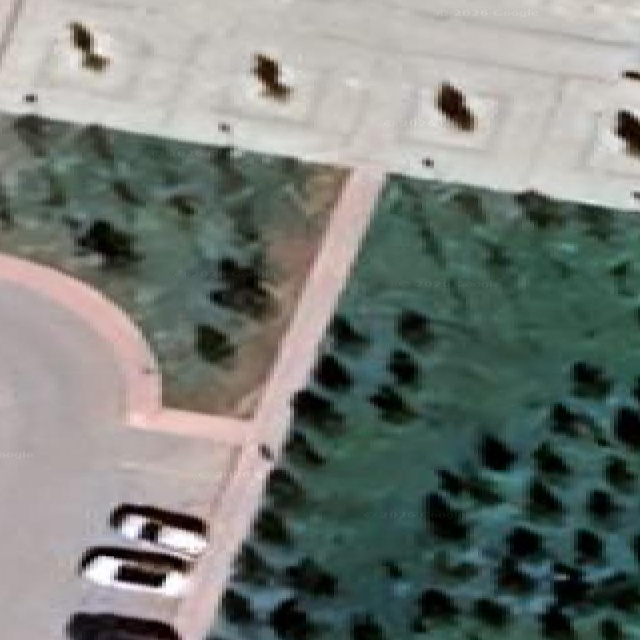car: (79, 547, 188, 595), (111, 504, 206, 555), (67, 612, 180, 639)
